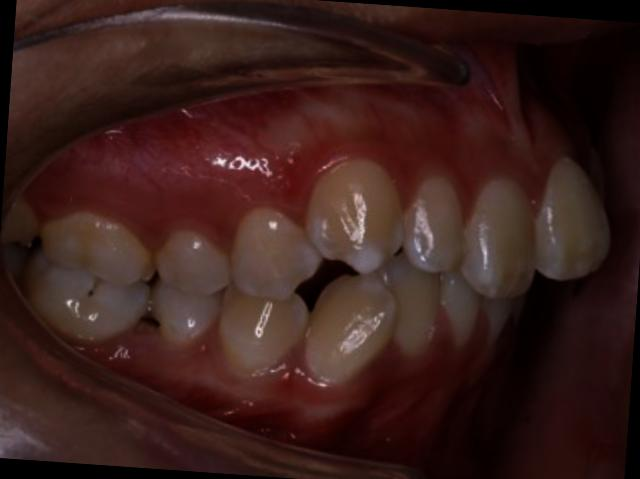canine class II 3/4: (218, 141, 409, 402)
molar class II 1/2: (24, 202, 154, 352)
